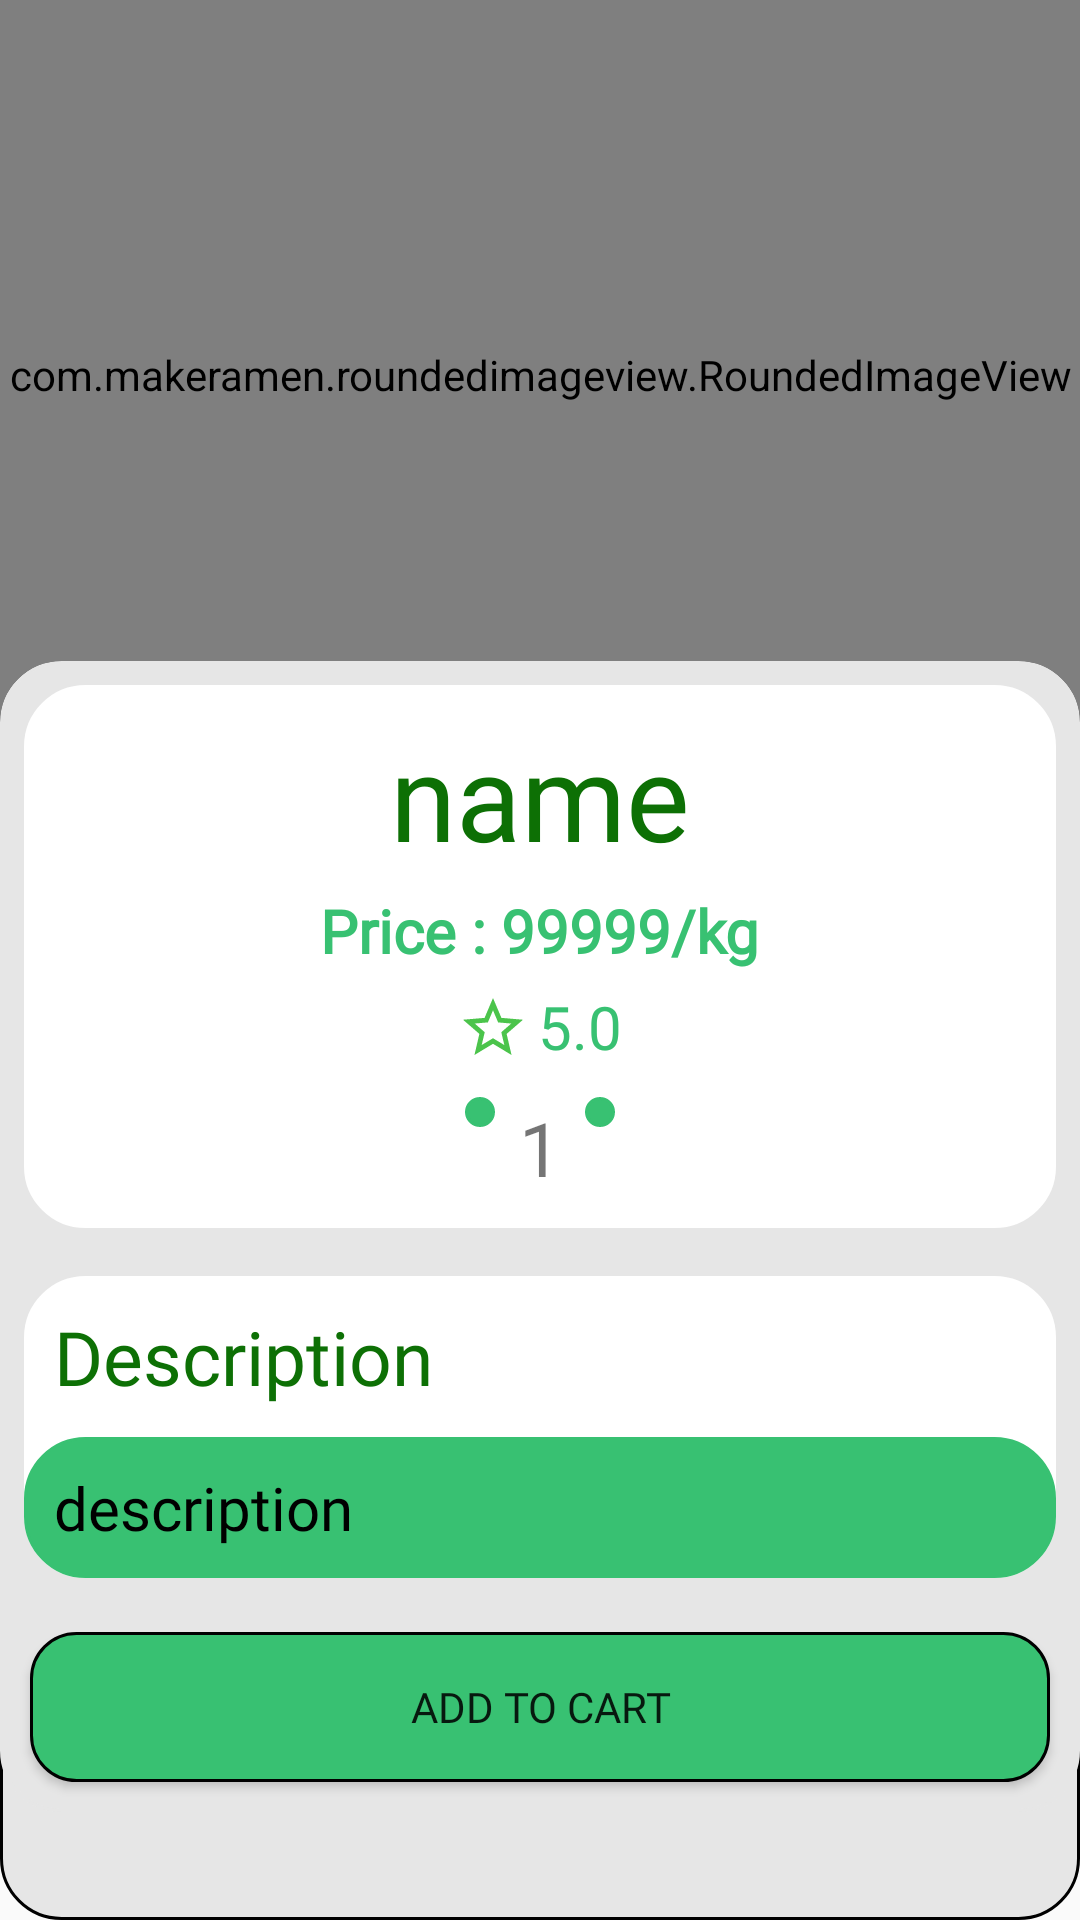

Point at icon controls on the screen. Image size 1080px×1920px, points as point (x, y).
star border: point (493, 1026)
